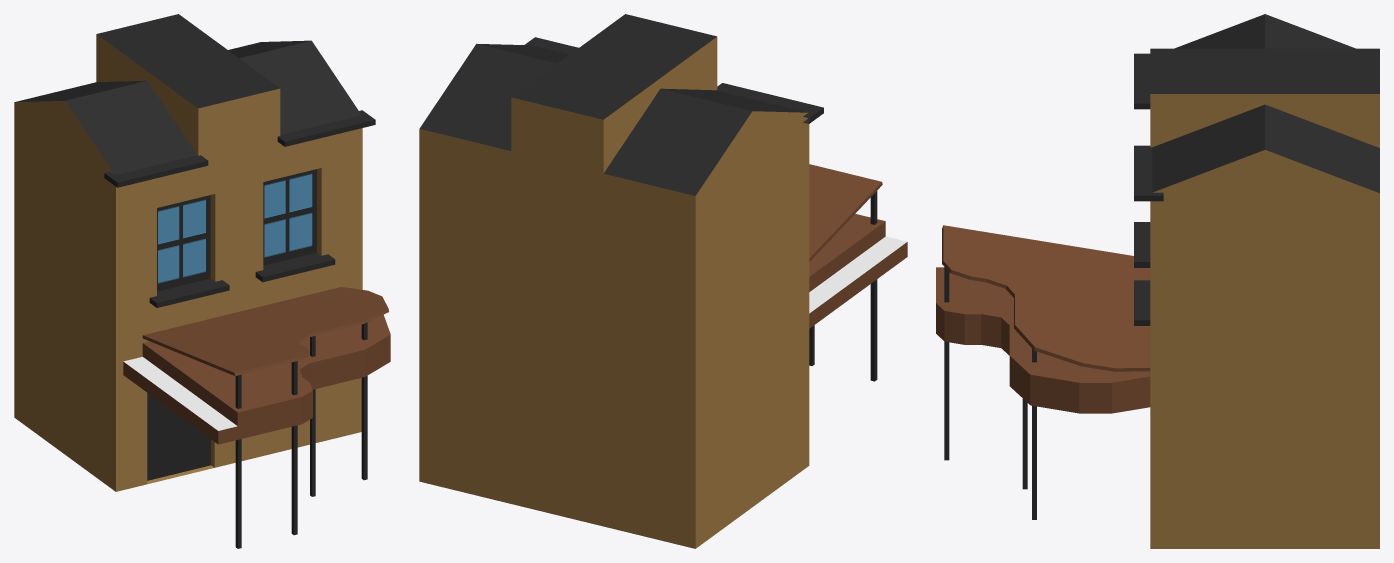
File: JazzPiano2.obj
3 views of the same model, side by side, from view 1: azimuth 30°, elevation 25°; view 2: azimuth 150°, elevation 25°; view 3: azimuth 270°, elevation 25° (orthographic). The views are drawn at different scales.
Visible parts, largest first — view 1: PianionoJazzDONE.001; view 2: PianionoJazzDONE.001; view 3: PianionoJazzDONE.001.
Part boxes in pixels (left/top/right/bottom): PianionoJazzDONE.001: left=14, top=14, right=390, bottom=548; PianionoJazzDONE.001: left=419, top=14, right=907, bottom=548; PianionoJazzDONE.001: left=936, top=14, right=1379, bottom=548.
Size of the model in its own units: 7.32 by 9.85 by 9.67.
